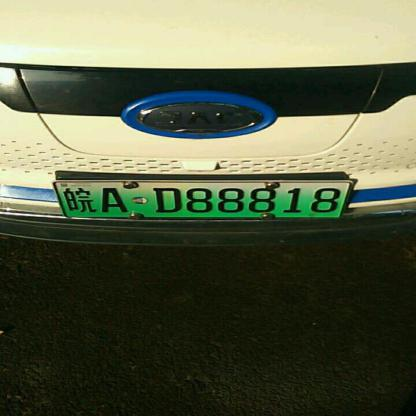lp: (54, 182, 67, 218)
